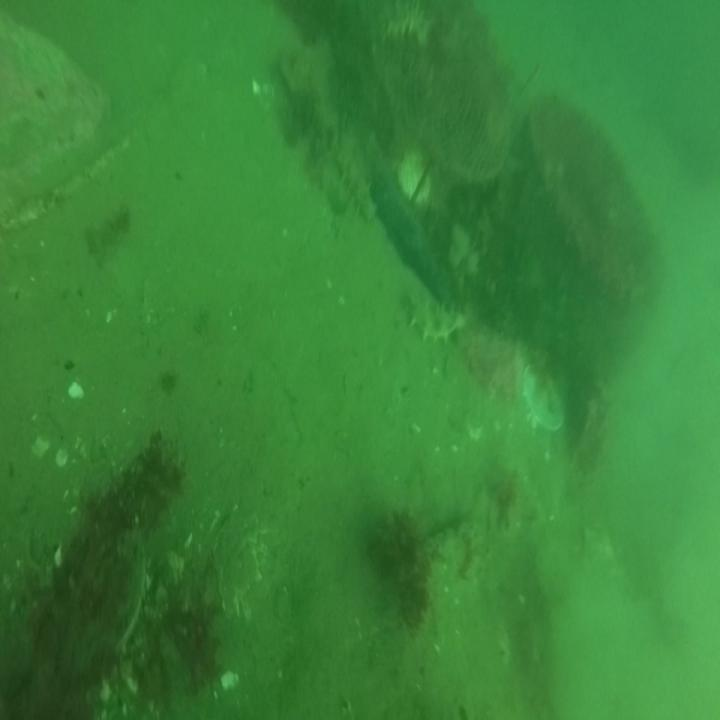holothurian: (328, 127, 380, 216), (397, 287, 470, 342), (383, 2, 433, 46)
scallop: (524, 362, 564, 433), (398, 148, 434, 204)
